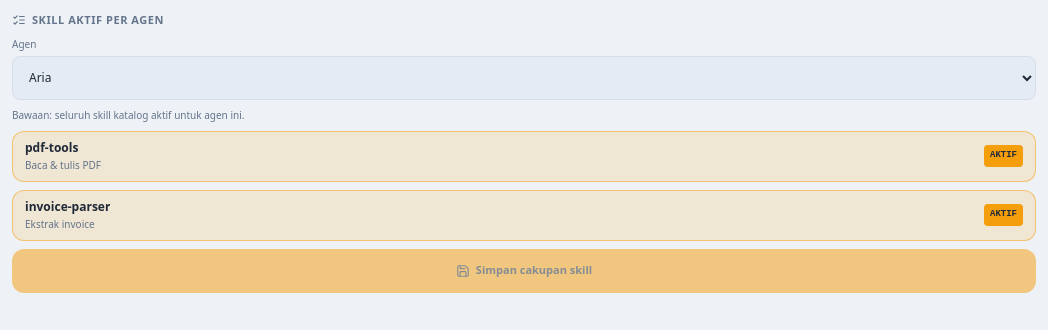
Test: AgentSkillScope — sakelar skill per agen › menampilkan pesan server apa adanya saat penyimpanan ditolak
Click the switch with test id "agent-skill-toggle-invoice-parser": (68, 206) [12,190,1036,240]
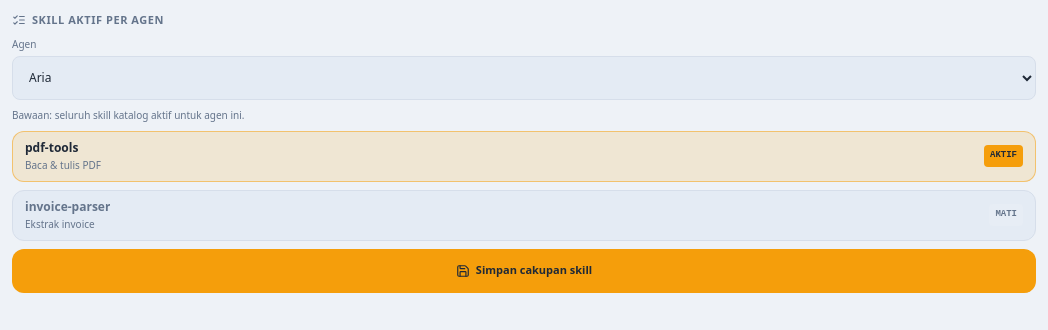
Click the button with test id "agent-skill-save": (524, 270) [12,248,1036,292]
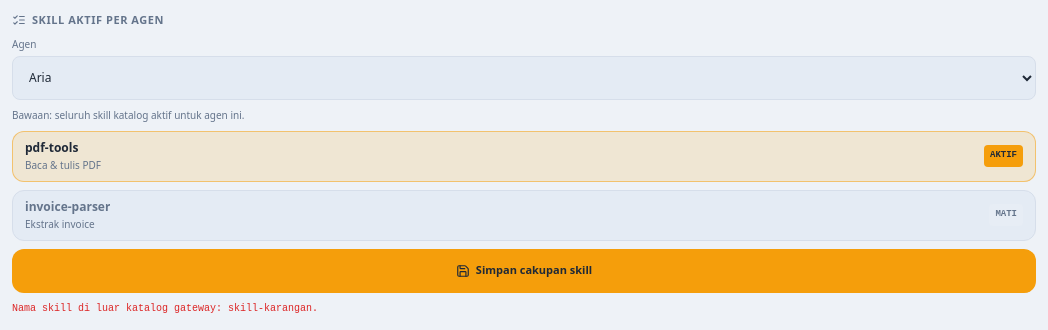
Check: the text with test id "agent-skill-error" reads "Nama skill di luar katalog gateway: skill-karangan.", box [12,302,318,314]
